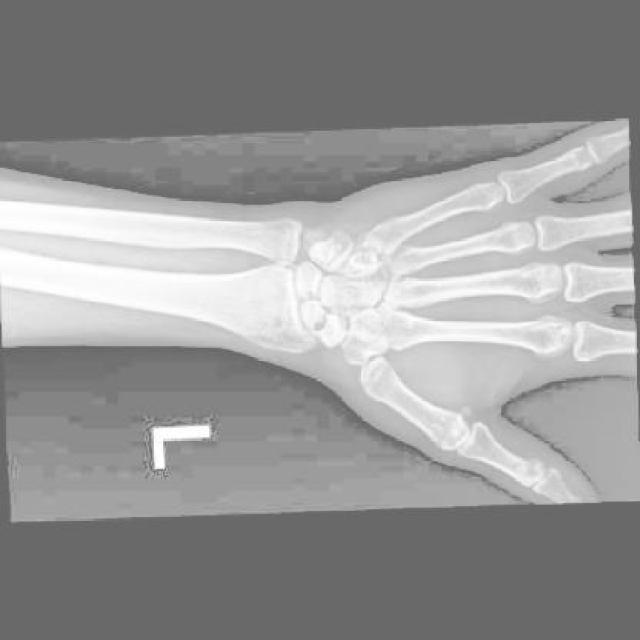Fracture: (309, 308, 346, 342)
